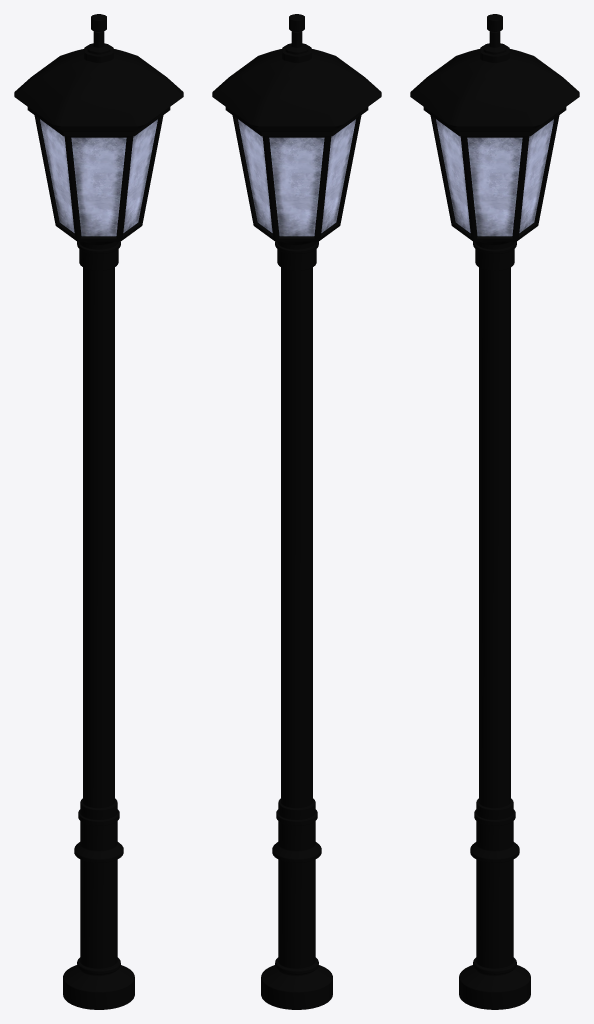
Rendered from streetlamp.glb.
3 views of the same model, side by side, from view 1: azimuth 30°, elevation 25°; view 2: azimuth 150°, elevation 25°; view 3: azimuth 270°, elevation 25° (orthographic).
Parts seen in each view (by area): view 1: Mesh_Black_0, Mesh_Glass.001_0; view 2: Mesh_Black_0, Mesh_Glass.001_0; view 3: Mesh_Black_0, Mesh_Glass.001_0.
Part boxes in pixels (x1=…): Mesh_Black_0: x1=14, y1=14, x2=183, y2=1009; Mesh_Glass.001_0: x1=40, y1=119, x2=157, y2=236; Mesh_Black_0: x1=212, y1=14, x2=381, y2=1009; Mesh_Glass.001_0: x1=238, y1=119, x2=355, y2=236; Mesh_Black_0: x1=410, y1=14, x2=579, y2=1009; Mesh_Glass.001_0: x1=436, y1=119, x2=553, y2=236.
Bounding box in the file's own units: 0.6334 × 4.5 × 0.7053.
Materials: 2 (1 with a texture image).
